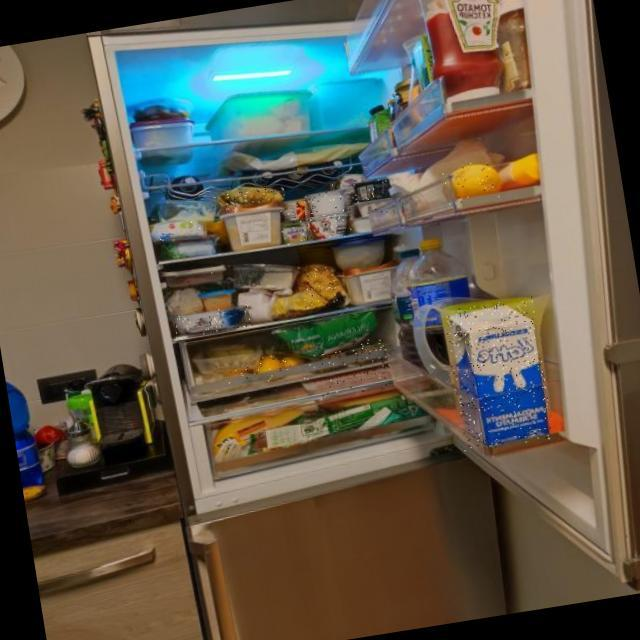Carne cerdo: (305, 365, 394, 405), (167, 272, 220, 292)
Limón: (440, 159, 500, 208), (250, 355, 285, 384), (219, 363, 252, 386), (281, 353, 305, 372)
Queso: (173, 306, 251, 339), (212, 185, 288, 212), (297, 262, 338, 310), (151, 216, 209, 245), (280, 220, 310, 246)
Yogur: (306, 211, 353, 242), (306, 189, 349, 217), (343, 198, 395, 220), (350, 179, 393, 205), (330, 172, 370, 196), (280, 197, 312, 223)
milk: (443, 298, 554, 453)
olive: (350, 336, 388, 368), (308, 348, 351, 374)
